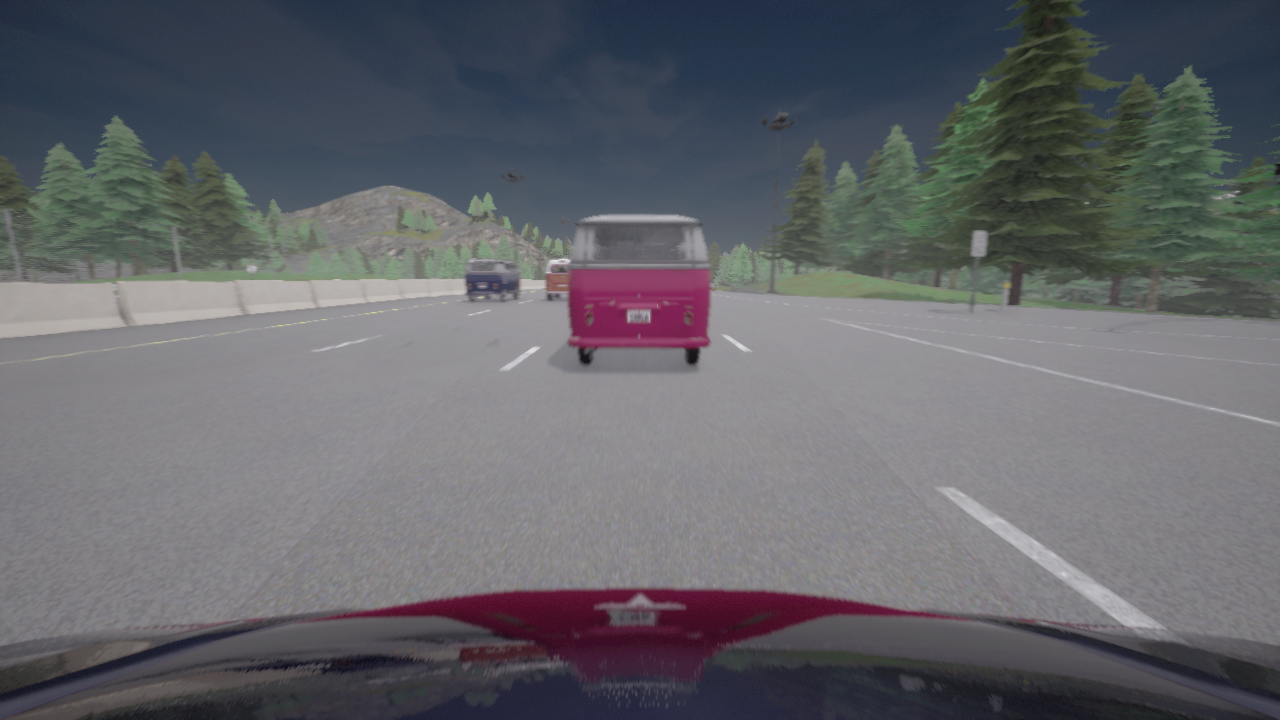cyclist: (0, 588, 1279, 719), (567, 215, 709, 364), (464, 259, 520, 301), (545, 259, 569, 300)
